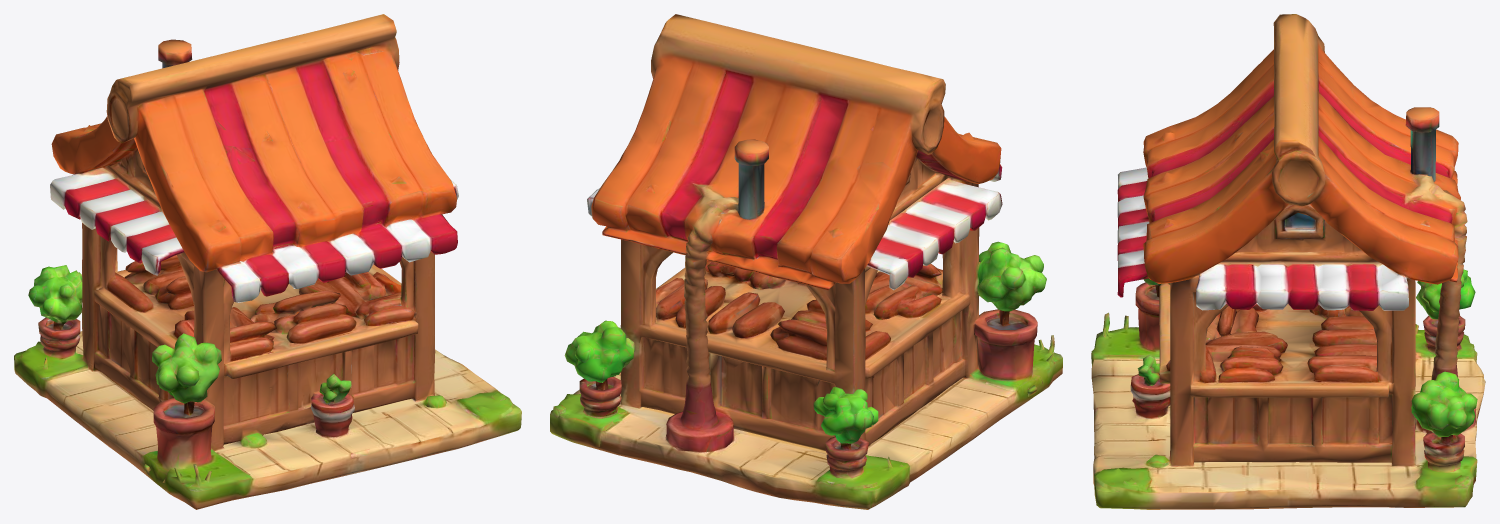
File: worstenbroodjeskraam.glb
The picture shows the model from 3 angles, left to right: view 1: azimuth 30°, elevation 25°; view 2: azimuth 150°, elevation 25°; view 3: azimuth 270°, elevation 25°; orthographic projection. The views are drawn at different scales.
Visible parts, largest first — view 1: Mesh_0; view 2: Mesh_0; view 3: Mesh_0.
Boxes of the visible parts, x1,y1,x2,y2 form: Mesh_0: [14, 14, 521, 509]; Mesh_0: [550, 14, 1062, 509]; Mesh_0: [1091, 14, 1485, 509].
Size of the model in its own units: 1.85 by 1.82 by 1.85.
1 material, 1 textured.
